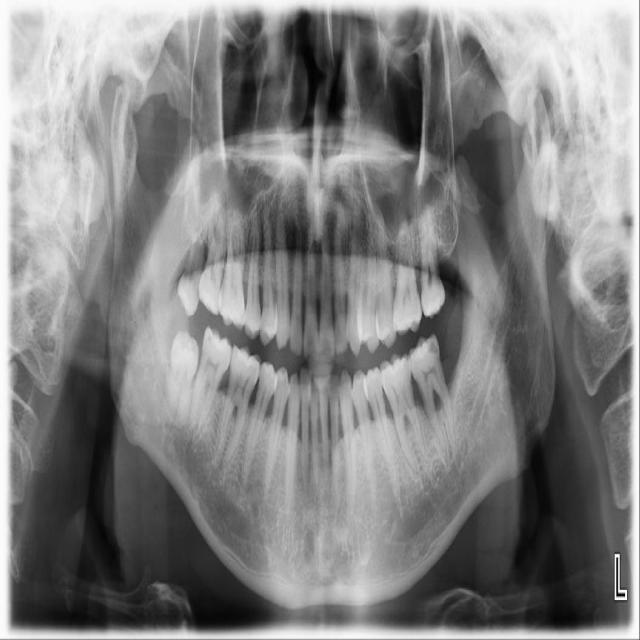Caries: (427, 339, 437, 353)
impacted tooth: (164, 329, 199, 433)
